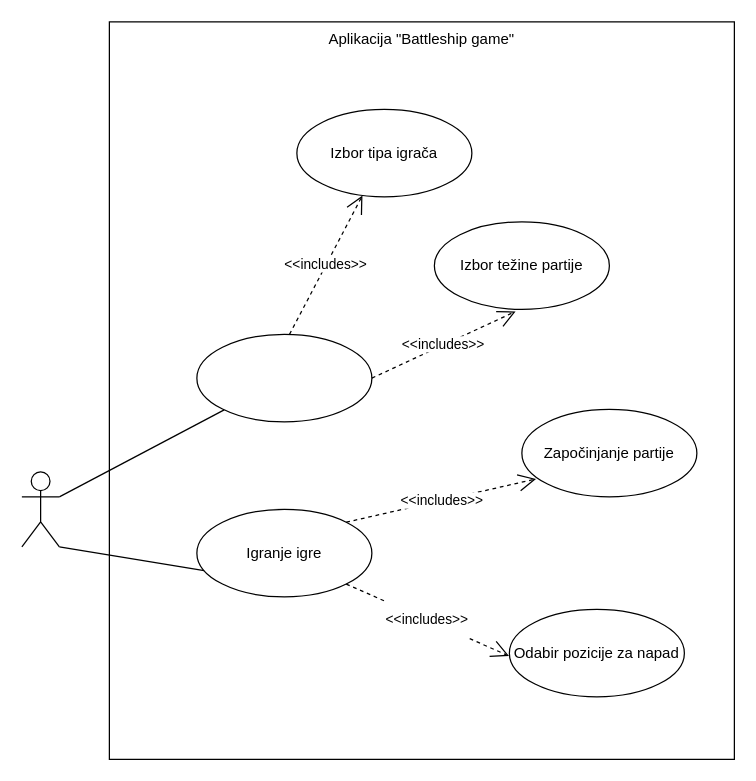
The diagram is 756 pixels wide and 781 high, and some of its shapes have lost their labels. The shapes that lost their labels are listed below. From the top down, each one's box as (x1, y1, x2, y2) in pixels, then its label:
(196, 333, 372, 422): Podešavanje igre
(21, 471, 59, 547): Igrač
